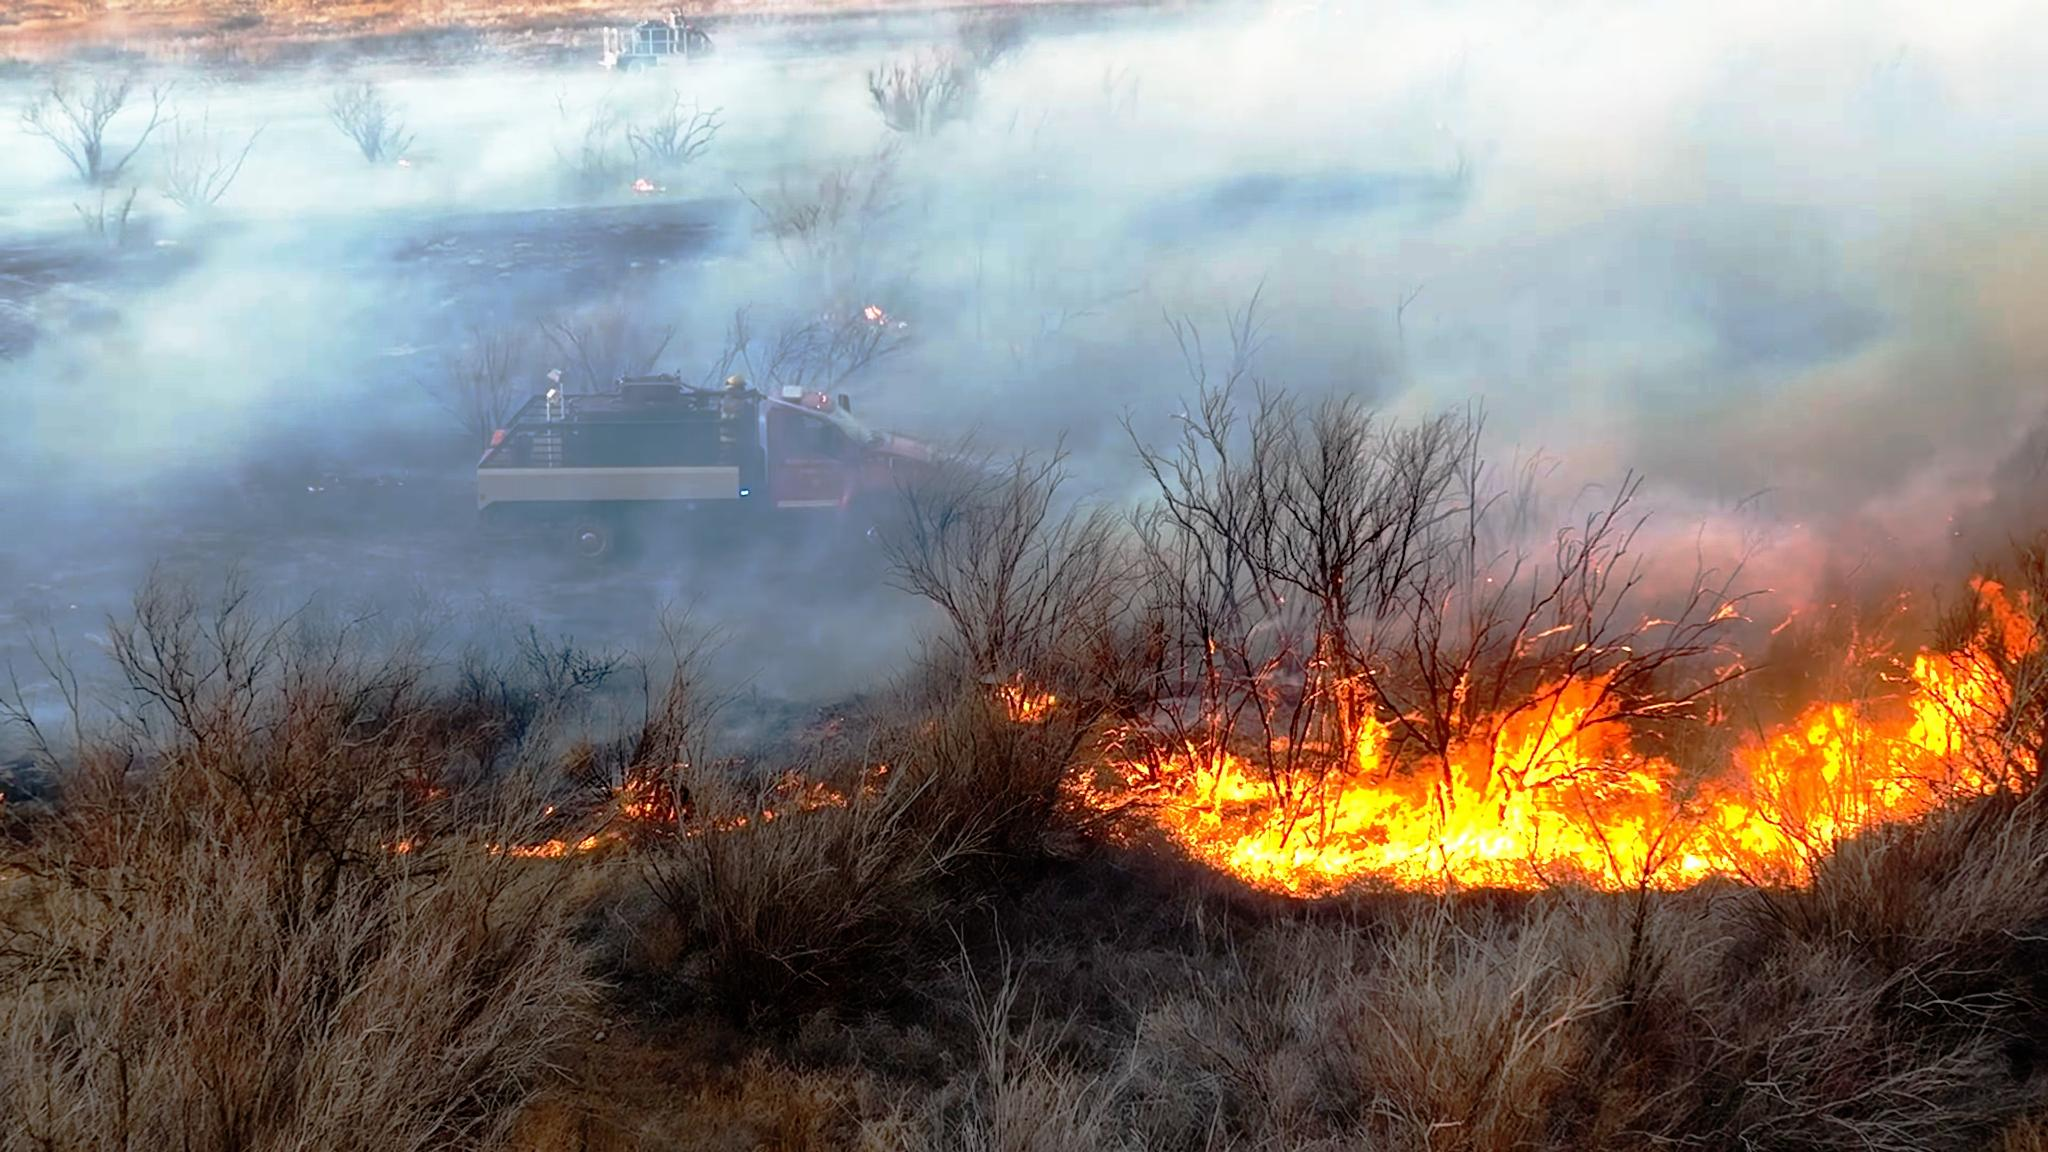fire: (1169, 678, 1651, 928), (1687, 595, 2021, 917)
smoke: (1436, 46, 1923, 447)
